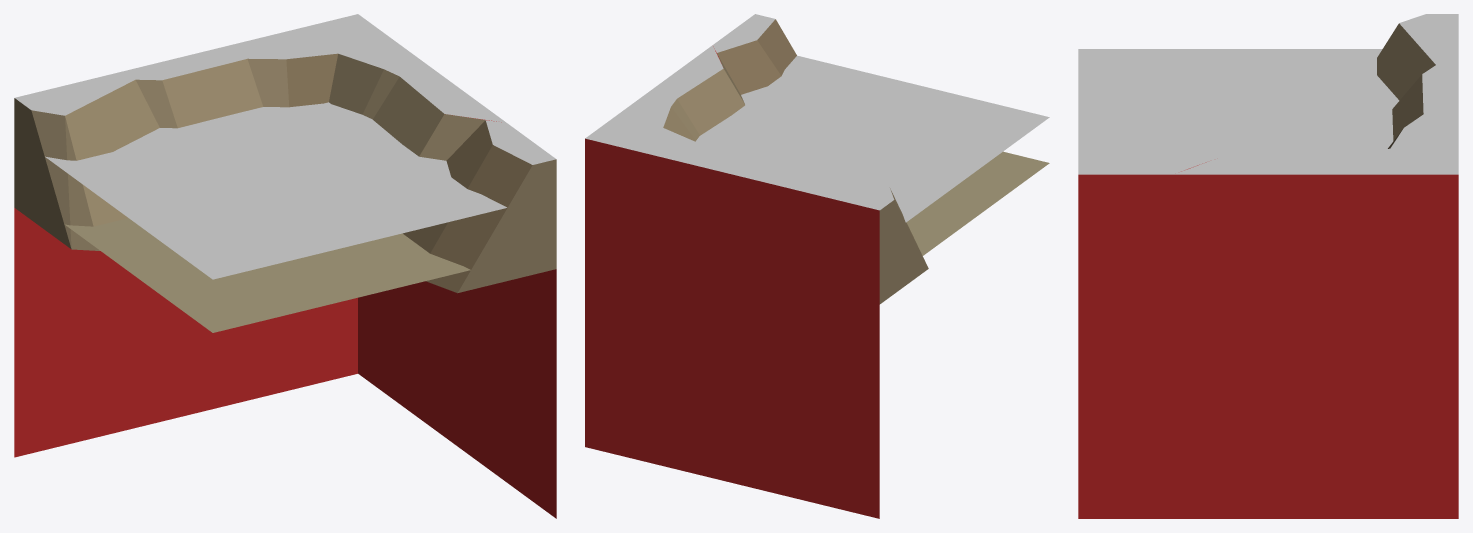
File: Model_Horde_River_2WTR_CW.fbx
3 views of the same model, side by side, from view 1: azimuth 30°, elevation 25°; view 2: azimuth 150°, elevation 25°; view 3: azimuth 270°, elevation 25° (orthographic). The views are drawn at different scales.
Parts seen in each view (by area): view 1: Model_Frost_Rivers11; view 2: Model_Frost_Rivers11; view 3: Model_Frost_Rivers11.
Boxes of the visible parts, bbox=[...] form: Model_Frost_Rivers11: bbox=[14, 14, 556, 518]; Model_Frost_Rivers11: bbox=[585, 14, 1049, 518]; Model_Frost_Rivers11: bbox=[1078, 14, 1458, 518].
Size of the model in its own units: 200 by 200 by 200.
